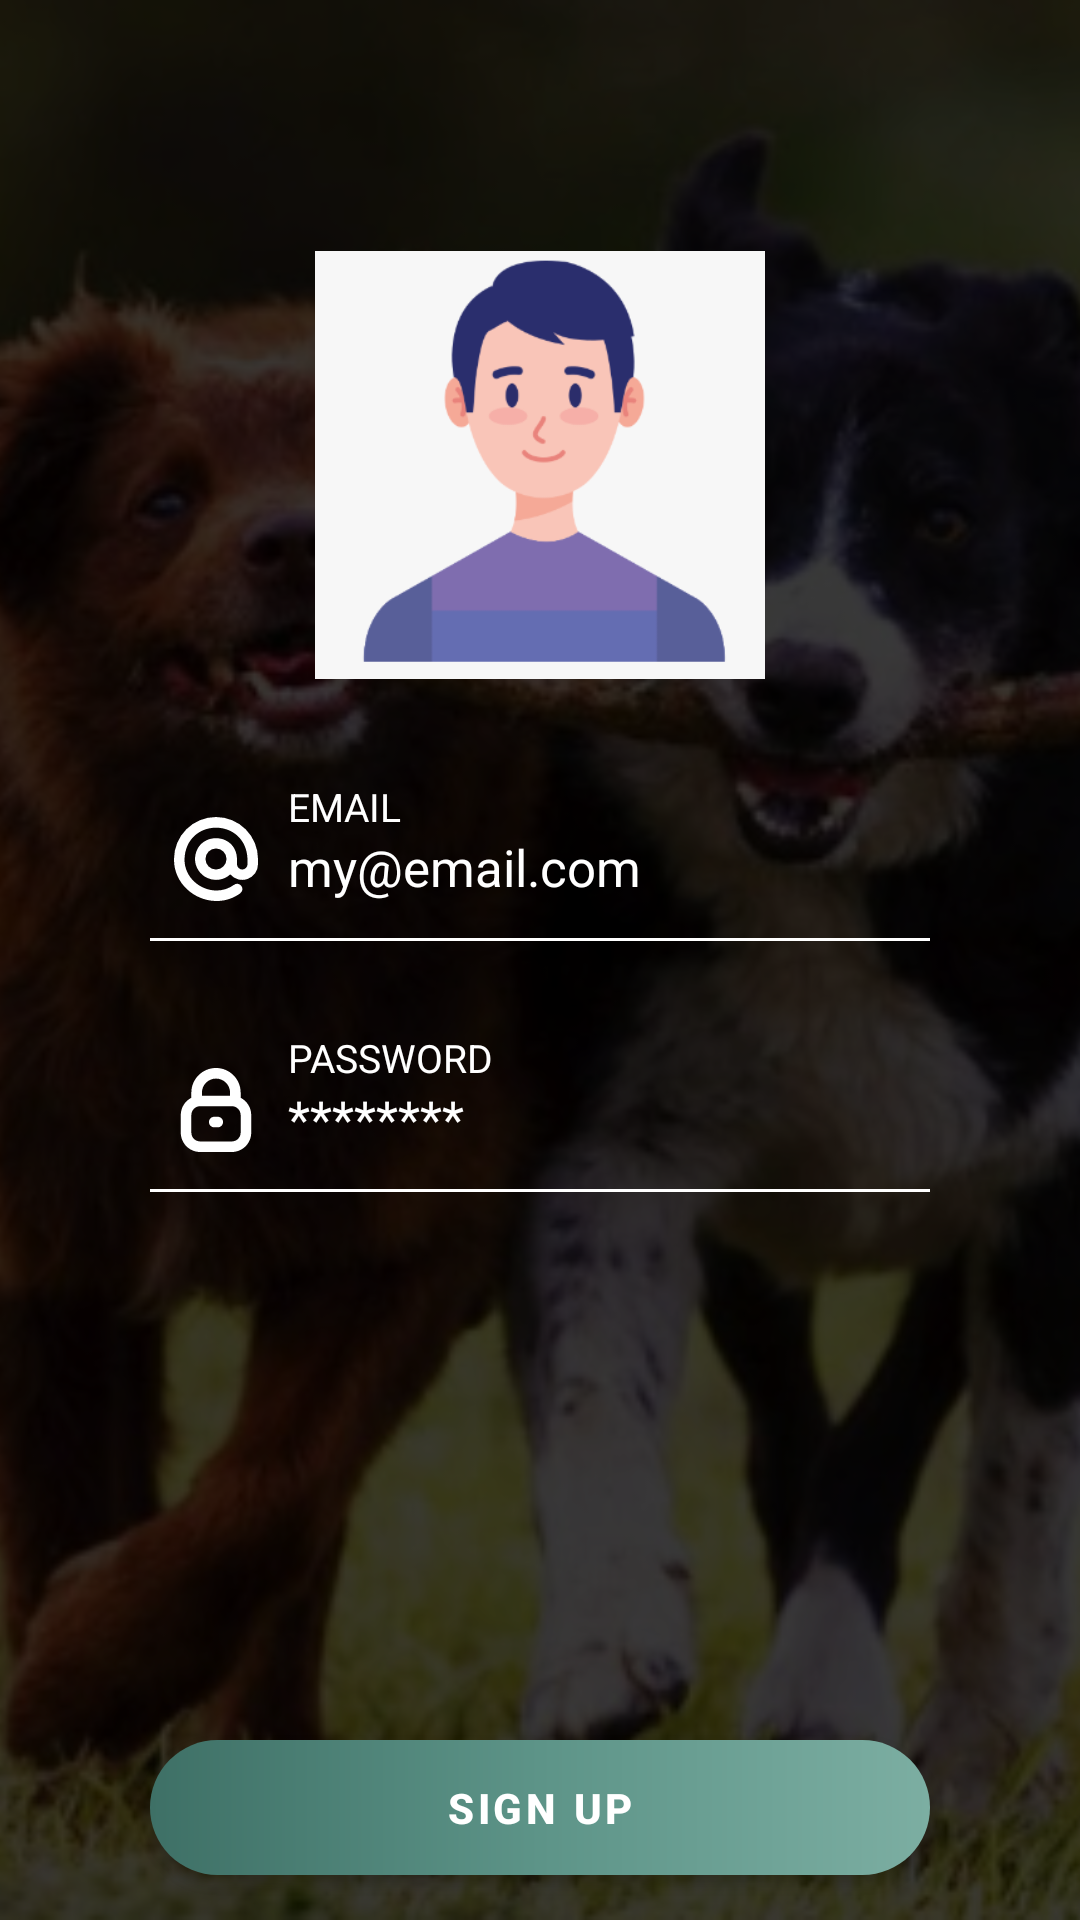

Where icons sit on this 1080 × 1920 app screen, as (x1, y1, x2, y2):
lock: (180, 1068, 252, 1152)
